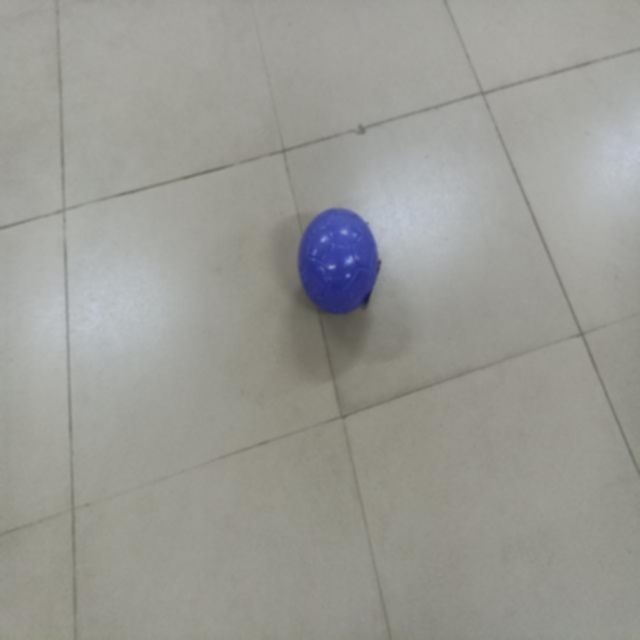purple_ball: (302, 211, 376, 309)
